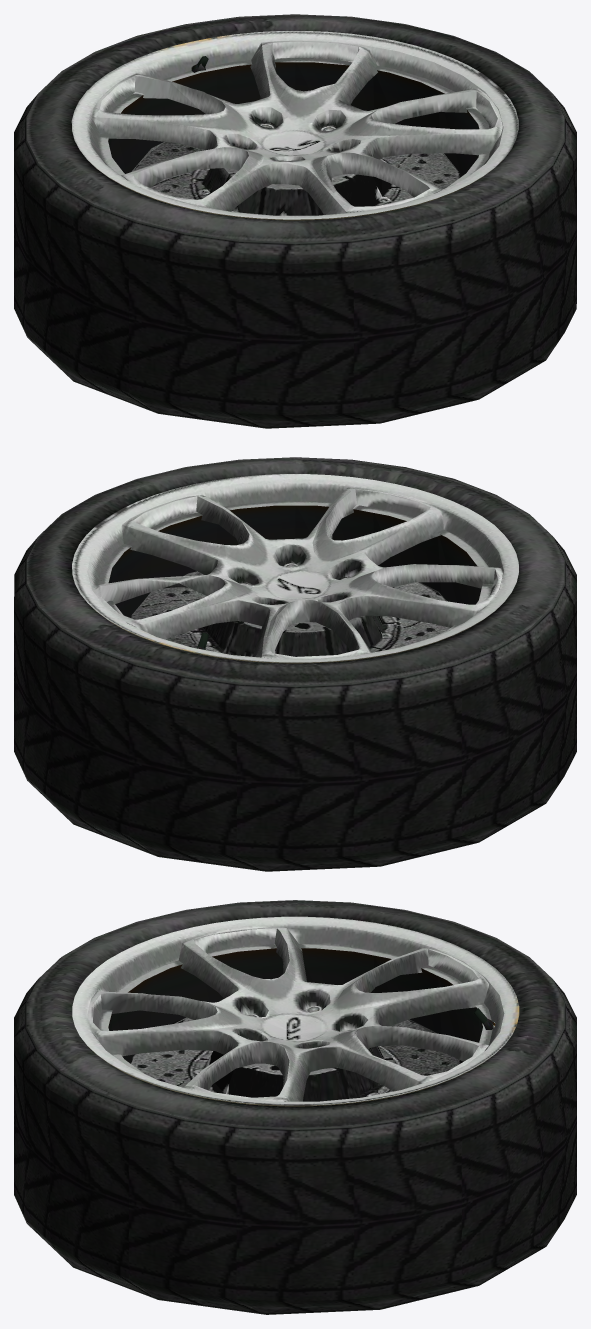
Rendered from front_right_wheel.obj.
3 renders of one model, top to bottom at view 1: azimuth 30°, elevation 25°; view 2: azimuth 150°, elevation 25°; view 3: azimuth 270°, elevation 25°, orthographic.
Parts seen in each view (by area): view 1: tyre.001; view 2: tyre.001; view 3: tyre.001.
Part boxes in pixels (bbox=[...]): tyre.001: bbox=[14, 14, 576, 428]; tyre.001: bbox=[14, 457, 576, 871]; tyre.001: bbox=[14, 900, 576, 1314].
Size of the model in its own units: 2.79 by 1.04 by 2.77.
